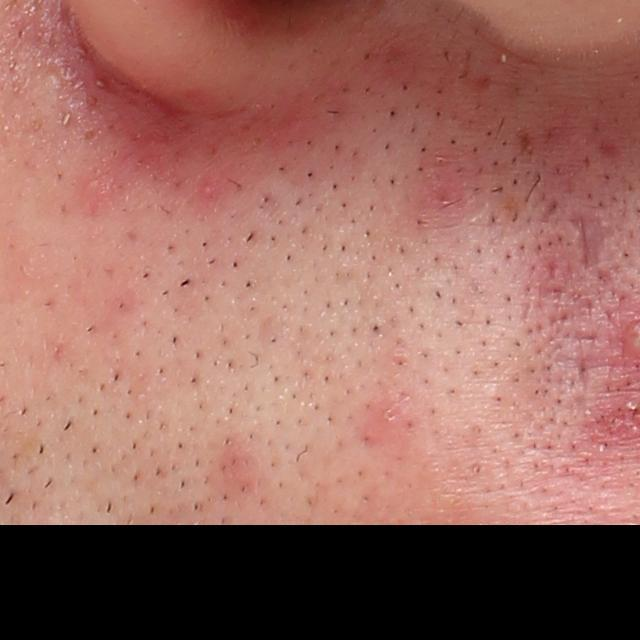atrophic_scar: (567, 213, 608, 267), (597, 140, 623, 162), (541, 197, 560, 224), (545, 256, 559, 282)
